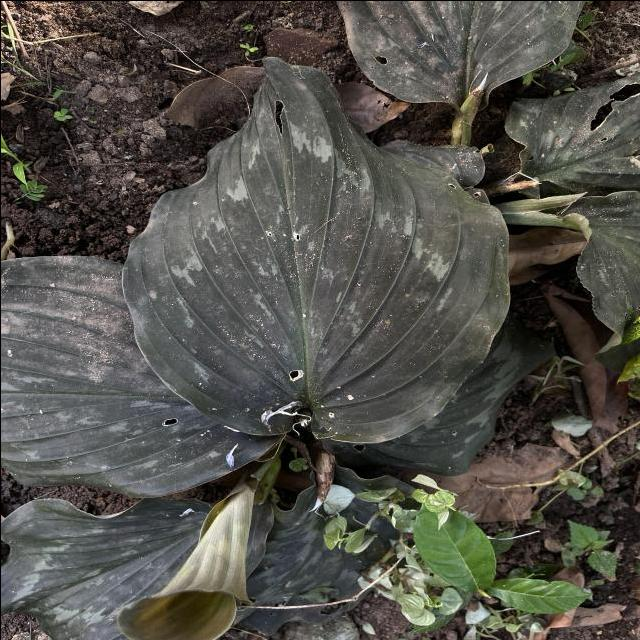Kaempferia galanga linn: (116, 54, 512, 447)
